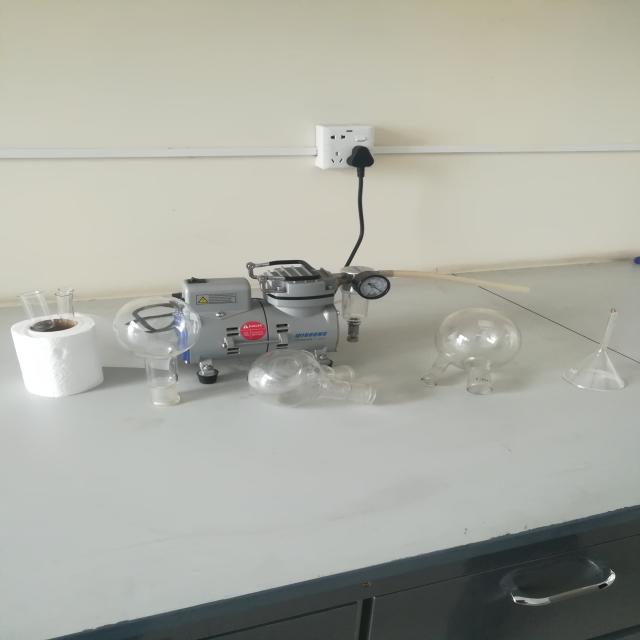Funnel: (549, 292, 640, 418)
Round_Bottom_Flask_Borosilicate_Glass_1_Neck: (110, 276, 210, 413)
Round_Bottom_Flask_Borosilicate_Glass_2_Neck: (394, 305, 535, 416)
Round_Bottom_Flask_Borosilicate_Glass_3_Neck: (241, 324, 380, 428)
